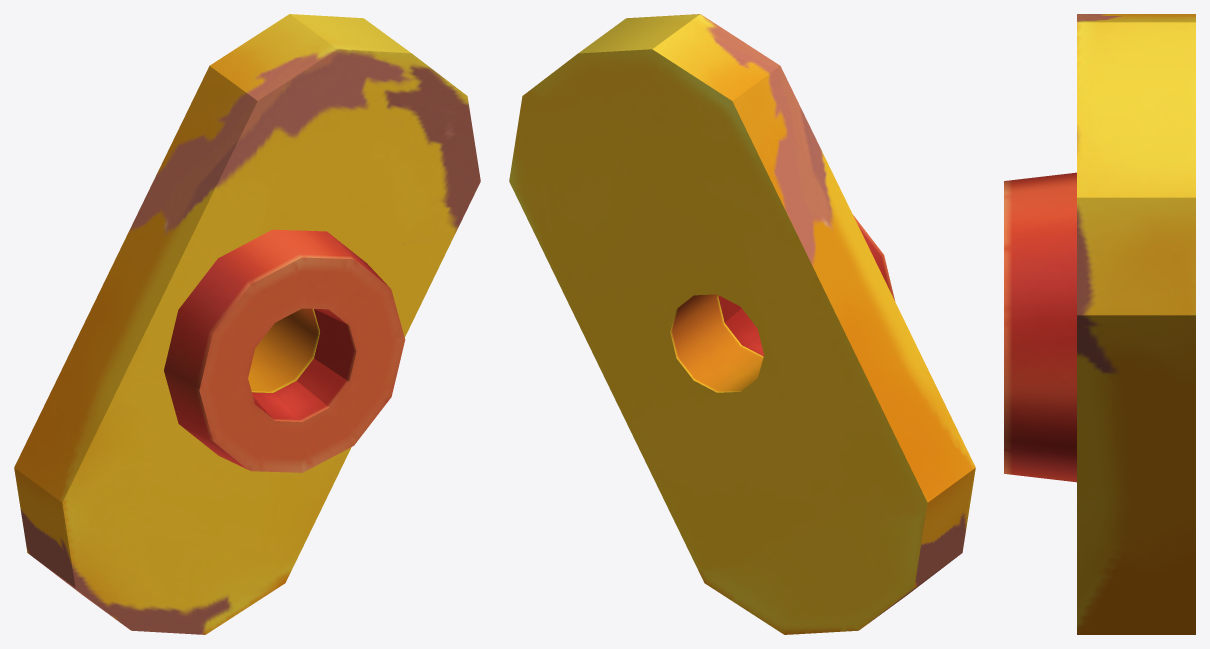
Rendered from zhishengji03.FBX.
3 renders of one model, left to right at view 1: azimuth 30°, elevation 25°; view 2: azimuth 150°, elevation 25°; view 3: azimuth 270°, elevation 25°, orthographic. The views are drawn at different scales.
Visible parts, largest first — view 1: zhishengji03; view 2: zhishengji03; view 3: zhishengji03.
Boxes of the visible parts, x1,y1,x2,y2 form: zhishengji03: (14, 14, 480, 634); zhishengji03: (509, 14, 975, 634); zhishengji03: (1004, 14, 1195, 634).
Size of the model in its own units: 19.25 by 24.32 by 6.19.
